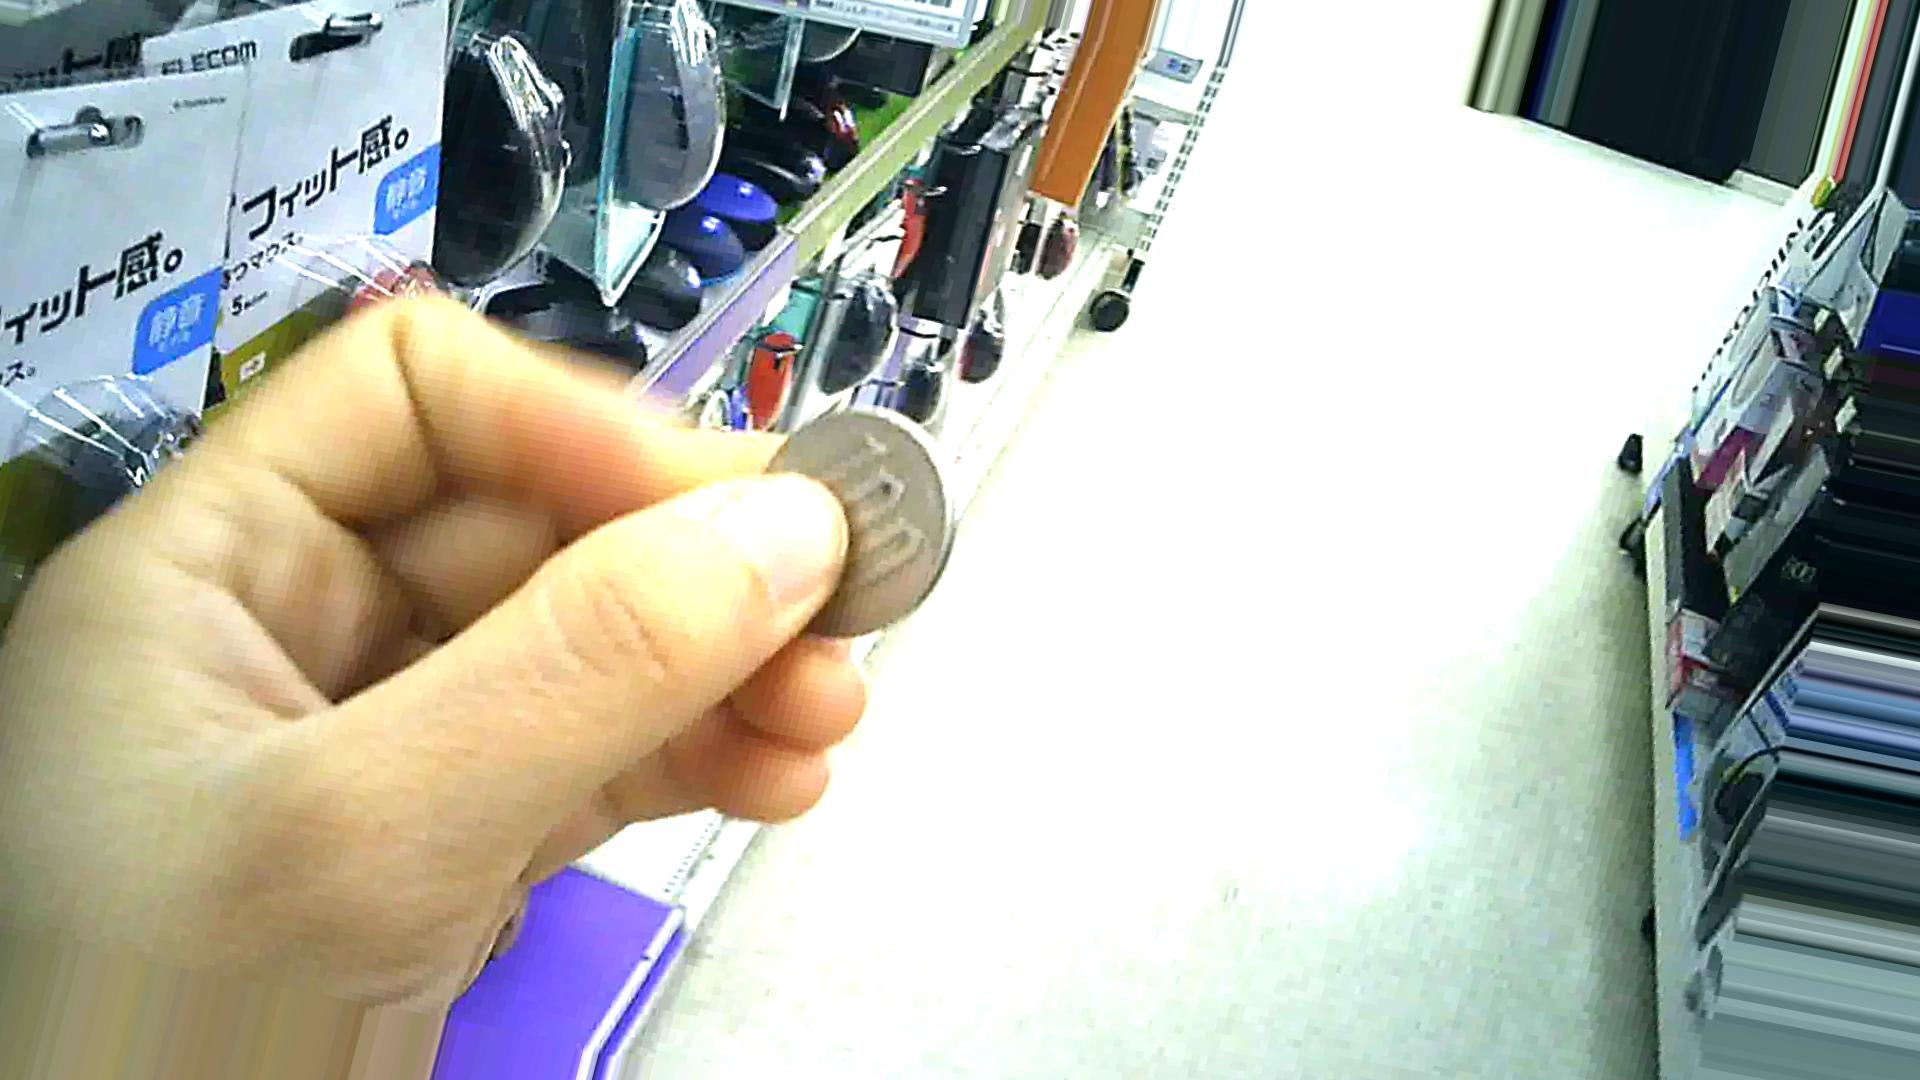100 Yen: (733, 415, 956, 651)
